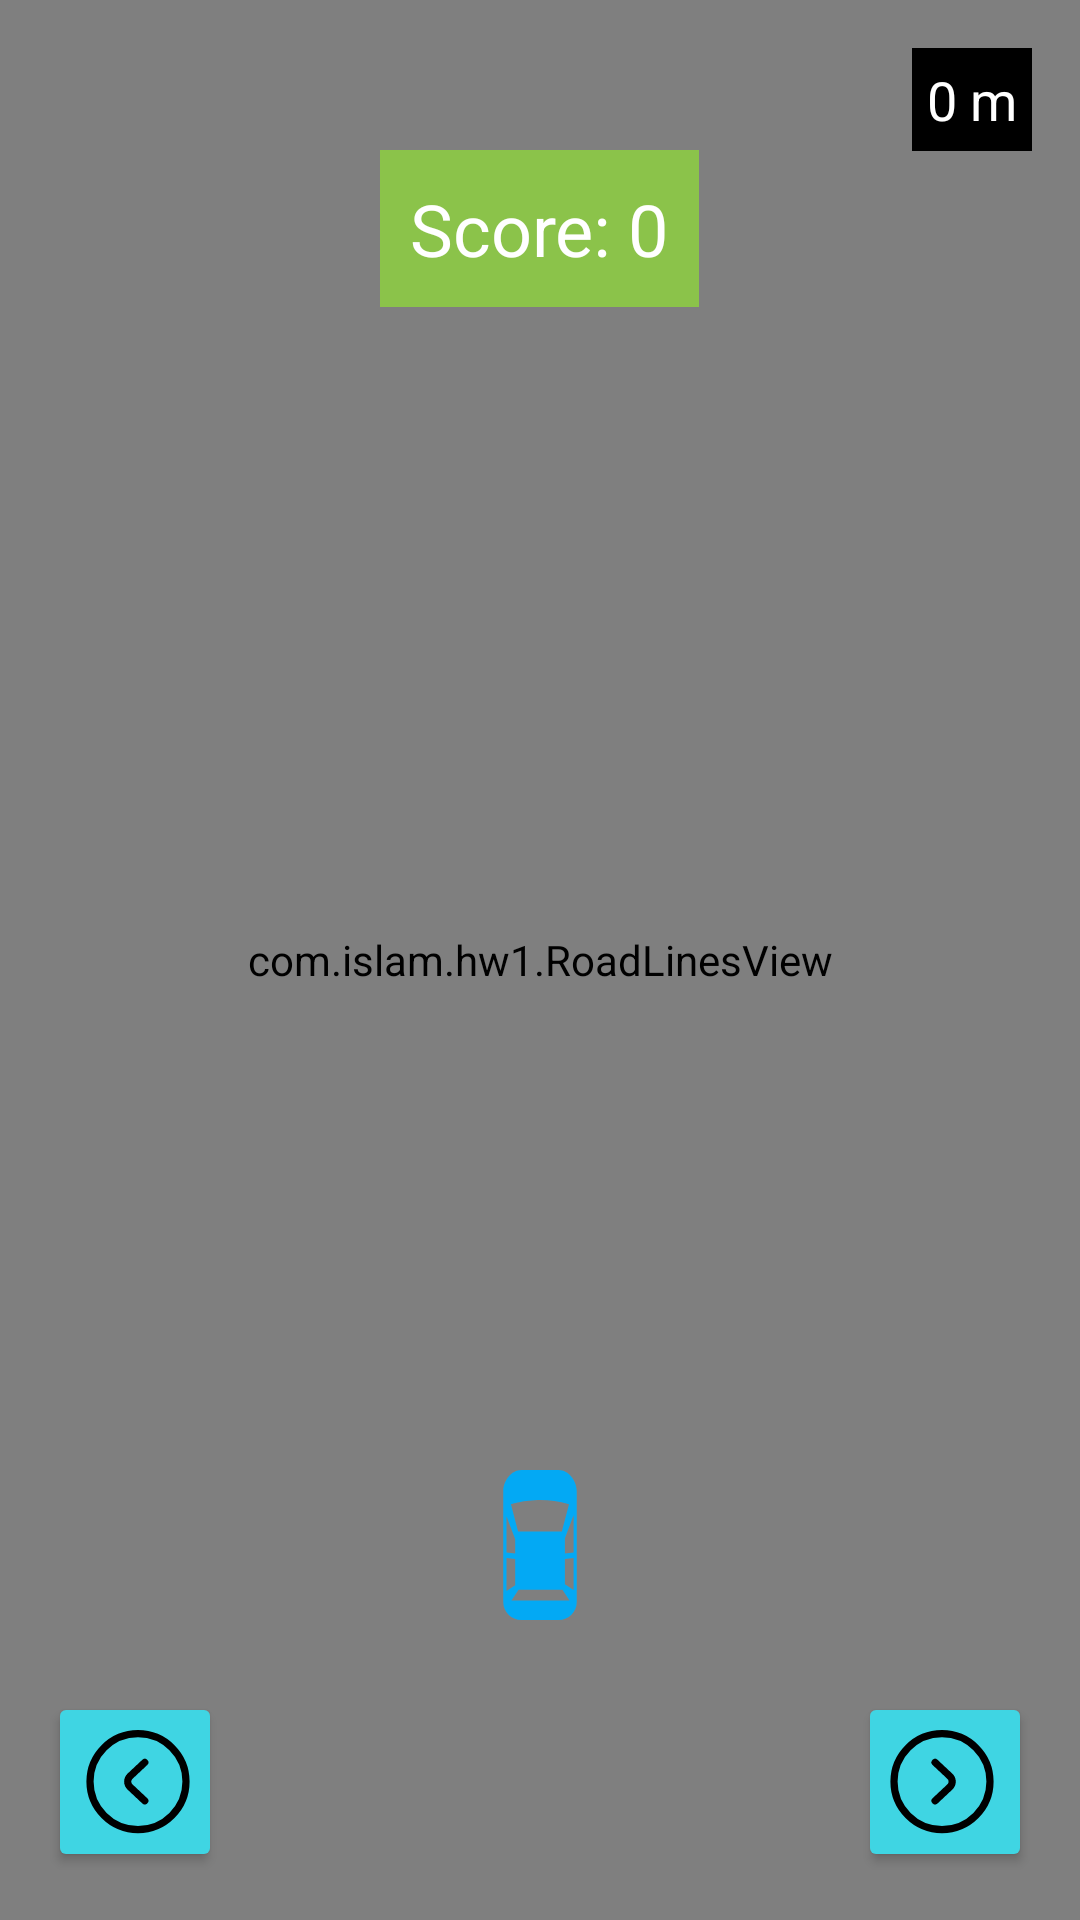

Where to tap for icons on this 1080px×1920px app screen, as [x,y]:
car icon: [540,1545]
